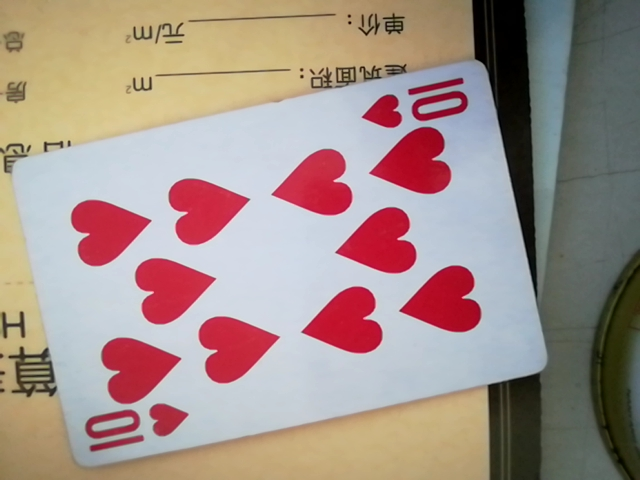hx 10: (12, 62, 543, 467)
